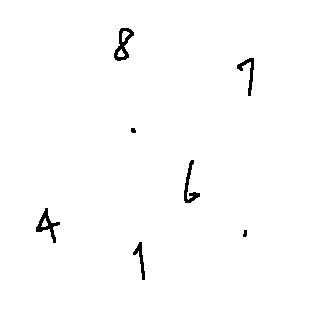.: (236, 223, 255, 244), (125, 123, 144, 137)
1: (125, 237, 162, 289)
4: (29, 205, 63, 247)
6: (176, 159, 205, 208)
7: (229, 45, 269, 105)
8: (112, 24, 142, 68)
